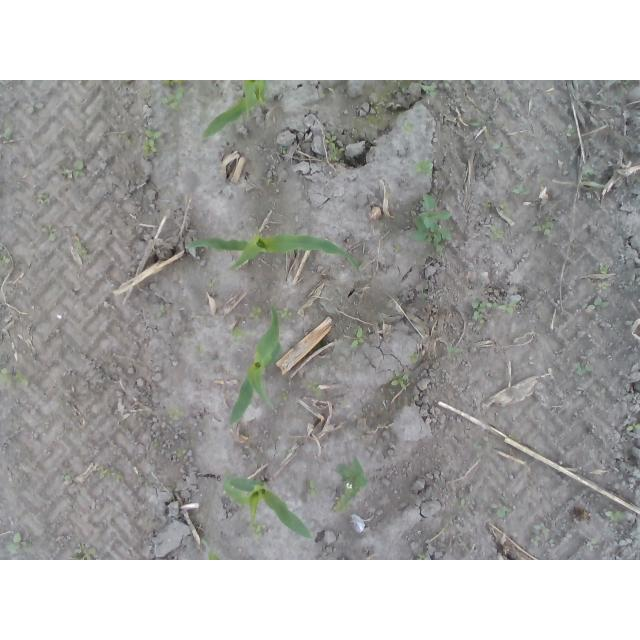Maize: (193, 232, 362, 274), (229, 304, 283, 429), (224, 475, 313, 540), (200, 81, 268, 140)
Weeds: (409, 190, 456, 254), (331, 456, 369, 517), (469, 299, 518, 326), (159, 80, 190, 114), (322, 131, 346, 163), (0, 367, 32, 389), (139, 127, 161, 158), (60, 159, 88, 182), (530, 215, 560, 235), (7, 531, 33, 554), (66, 544, 100, 561), (228, 326, 255, 346), (583, 296, 610, 316), (201, 537, 224, 560), (97, 466, 125, 483), (529, 522, 546, 549), (71, 234, 90, 258), (390, 371, 411, 392), (419, 80, 440, 98), (574, 361, 595, 379), (39, 222, 58, 241), (350, 327, 366, 349), (1, 244, 12, 274), (414, 158, 434, 174), (494, 505, 514, 520), (488, 225, 505, 242), (246, 304, 264, 320), (1, 124, 16, 143), (153, 303, 167, 322), (304, 379, 321, 393), (399, 122, 417, 135), (511, 183, 527, 197), (450, 497, 466, 511), (593, 262, 610, 275), (167, 407, 186, 418), (624, 422, 640, 435), (408, 350, 420, 367), (306, 480, 318, 497), (580, 166, 595, 178), (606, 511, 624, 521), (34, 194, 50, 205), (623, 80, 634, 96), (447, 345, 466, 354), (278, 307, 291, 320), (254, 526, 266, 539), (565, 123, 576, 137), (593, 281, 608, 291), (470, 119, 483, 130), (262, 175, 275, 186), (176, 446, 187, 458), (280, 387, 289, 401), (415, 552, 429, 561), (483, 199, 494, 210), (63, 471, 74, 481), (152, 438, 161, 450), (392, 243, 401, 254), (207, 280, 217, 289), (473, 440, 483, 449), (441, 80, 451, 88), (469, 80, 481, 86), (279, 148, 288, 155)
